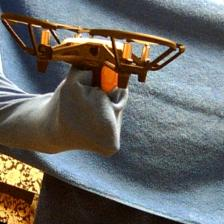drone: (1, 11, 187, 87)
